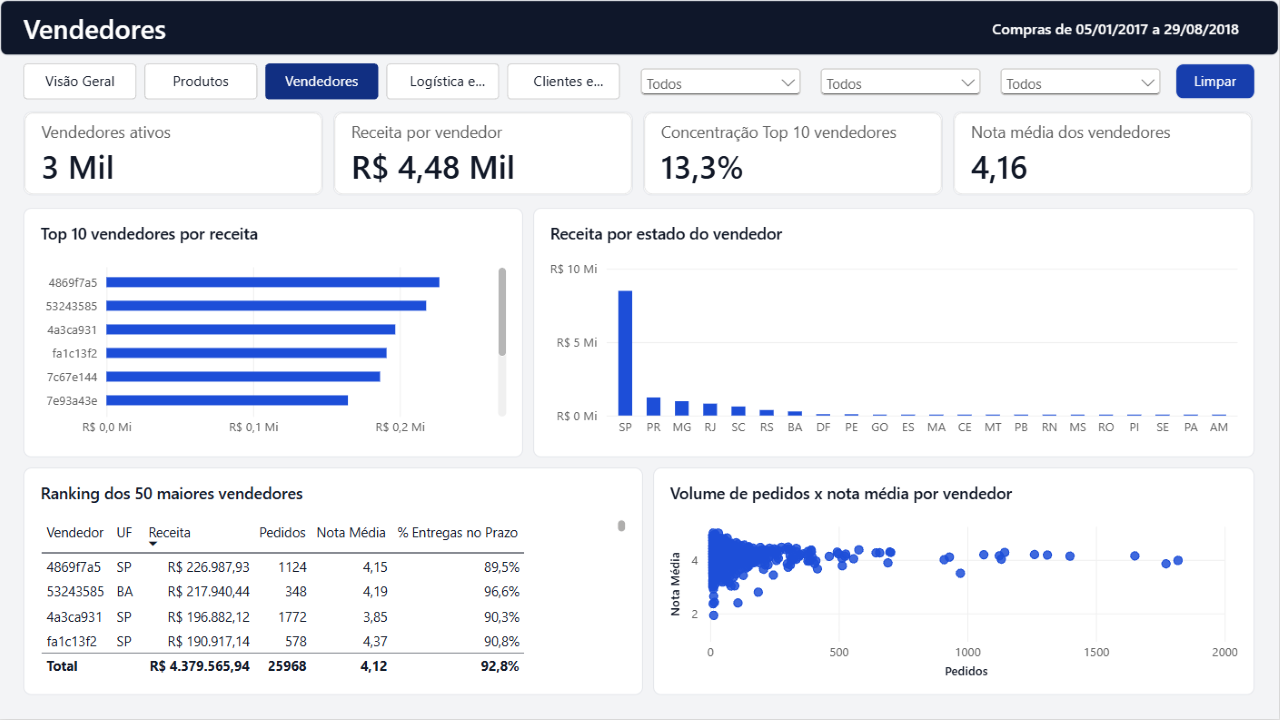

The page's visual inventory and layout, read from the dashboard file:
{"tool":"powerbi","page":{"name":"Vendedores","canvas":[1280,720],"ordinal":2},"visuals":[{"type":"shape","box":[0,0,1280,56],"z":0},{"type":"cardVisual","fields":{"Data":["_Medidas.Vendedores Ativos"]},"box":[24,112,300,84],"z":1000},{"type":"cardVisual","fields":{"Data":["_Medidas.Receita por Vendedor"]},"box":[334,112,300,84],"z":2000},{"type":"cardVisual","fields":{"Data":["_Medidas.Concentração Top 10 Vendedores %"]},"box":[644,112,300,84],"z":3000},{"type":"cardVisual","fields":{"Data":["_Medidas.Nota Média"]},"box":[954,112,300,84],"z":4000},{"type":"clusteredBarChart","title":"Top 10 vendedores por receita","fields":{"Category":["Dim_Vendedor.Vendedor"],"Y":["_Medidas.Receita"]},"box":[24,208,500,250],"z":5000},{"type":"clusteredColumnChart","title":"Receita por estado do vendedor","fields":{"Category":["Dim_Vendedor.UF"],"Y":["_Medidas.Receita"]},"box":[534,208,722,250],"z":6000},{"type":"tableEx","title":"Ranking dos 50 maiores vendedores","fields":{"Values":["Dim_Vendedor.Vendedor","Dim_Vendedor.UF","_Medidas.Receita","_Medidas.Pedidos","_Medidas.Nota Média","_Medidas.% Entregas no Prazo"]},"box":[24,468,620,228],"z":7000},{"type":"scatterChart","title":"Volume de pedidos x nota média por vendedor","fields":{"Category":["Dim_Vendedor.Vendedor"],"X":["_Medidas.Pedidos"],"Y":["_Medidas.Nota Média"]},"box":[654,468,602,228],"z":8000},{"type":"textbox","box":[24,10,700,36],"z":9000},{"type":"cardVisual","fields":{"Data":["_Medidas.Período de Dados"]},"box":[860,16,396,24],"z":10000},{"type":"pageNavigator","box":[24,64,600,36],"z":11000},{"type":"slicer","title":"Ano","fields":{"Values":["Dim_Calendario.Ano"]},"box":[636,64,170,36],"z":12000},{"type":"slicer","fields":{"Values":["Dim_Cliente.Região"]},"box":[816,64,170,36],"z":13000},{"type":"slicer","fields":{"Values":["Dim_Cliente.UF"]},"box":[996,64,170,36],"z":14000},{"type":"actionButton","box":[1176,64,80,36],"z":15000}]}

Visuals, with their boxes in screenshot pixels (x1, y1, x2, y2), scaled from the page's 1280x720 canvas onto the 1280x720 screenshot:
shape: region(0, 0, 1279, 56)
cardVisual - _Medidas.Vendedores Ativos: region(24, 112, 324, 196)
cardVisual - _Medidas.Receita por Vendedor: region(334, 112, 634, 196)
cardVisual - _Medidas.Concentração Top 10 Vendedores %: region(644, 112, 944, 196)
cardVisual - _Medidas.Nota Média: region(954, 112, 1254, 196)
"Top 10 vendedores por receita" clusteredBarChart: region(24, 208, 524, 458)
"Receita por estado do vendedor" clusteredColumnChart: region(534, 208, 1256, 458)
"Ranking dos 50 maiores vendedores" tableEx: region(24, 468, 644, 696)
"Volume de pedidos x nota média por vendedor" scatterChart: region(654, 468, 1256, 696)
textbox: region(24, 10, 724, 46)
cardVisual - _Medidas.Período de Dados: region(860, 16, 1256, 40)
pageNavigator: region(24, 64, 624, 100)
"Ano" slicer: region(636, 64, 806, 100)
slicer - Dim_Cliente.Região: region(816, 64, 986, 100)
slicer - Dim_Cliente.UF: region(996, 64, 1166, 100)
actionButton: region(1176, 64, 1256, 100)
